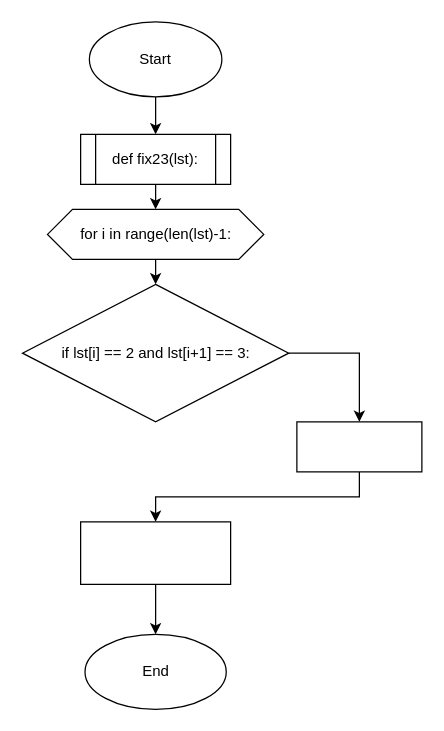
This 444x731 diagram has some shape labels left out. Each missing label, with the centre of its shape:
"lst[i+1] = 0" belongs at point (359, 446).
"return lst" belongs at point (155, 552).
